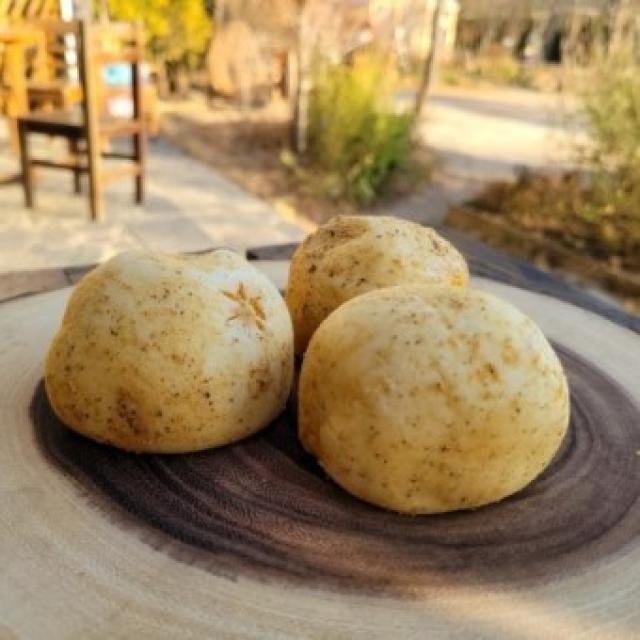potato: (297, 278, 577, 510), (49, 248, 300, 456), (279, 209, 470, 342)
